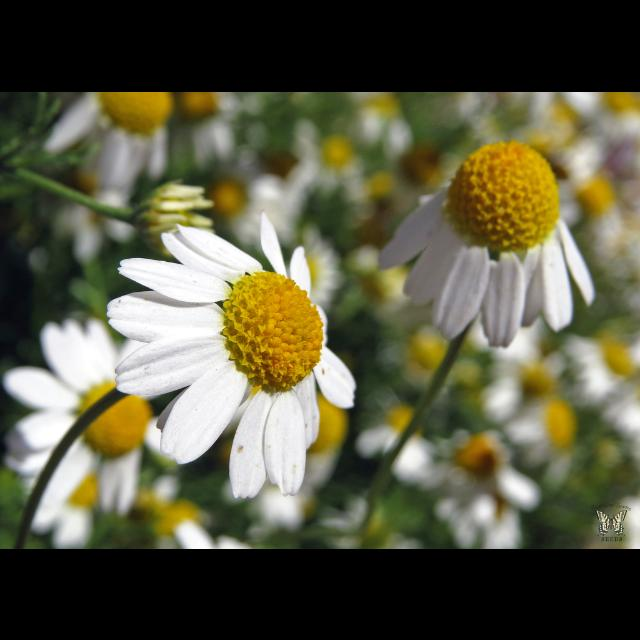Flower: (108, 212, 360, 504), (378, 139, 596, 345), (0, 317, 172, 547)
